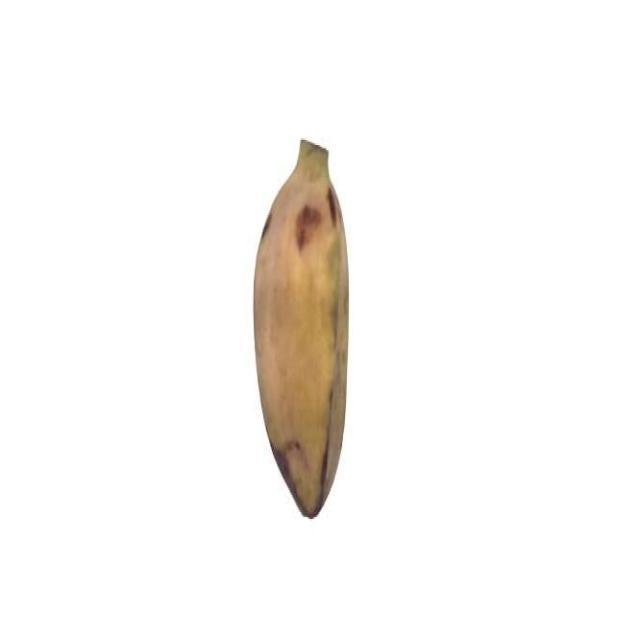Banana: (250, 136, 352, 520)
